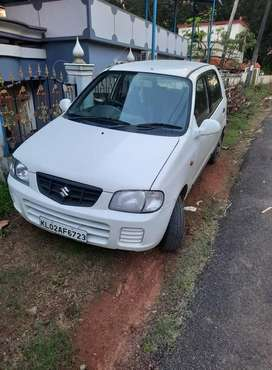KL02AF6723: (39, 216, 87, 243)
